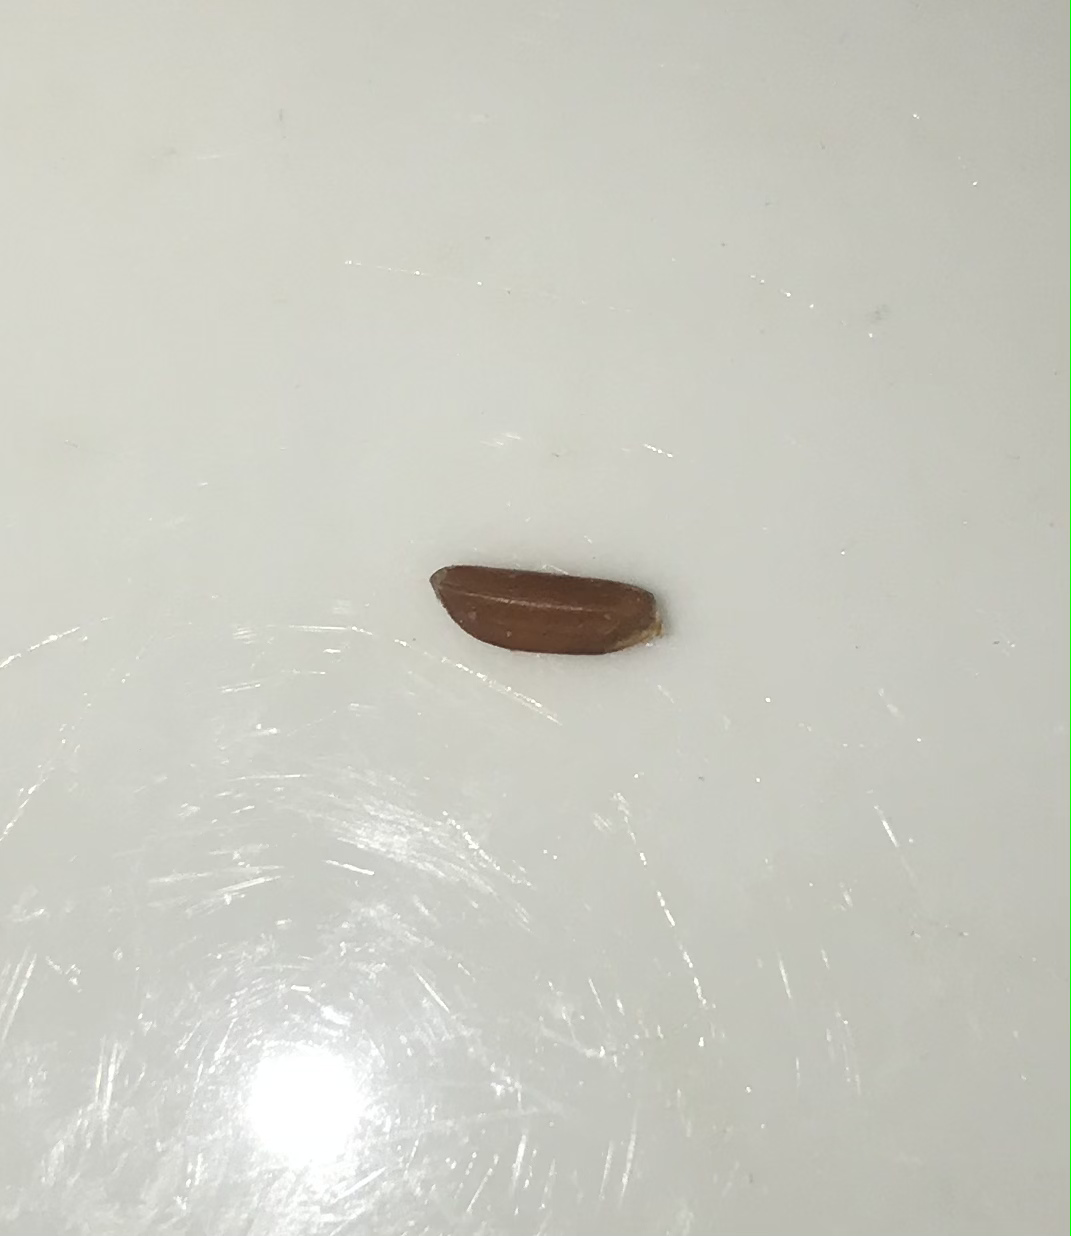Gao Lut Do: (425, 552, 676, 667)
